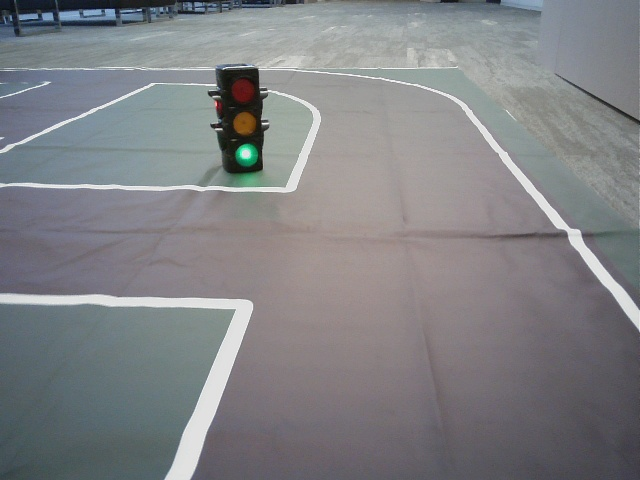green: (221, 69, 264, 170)
